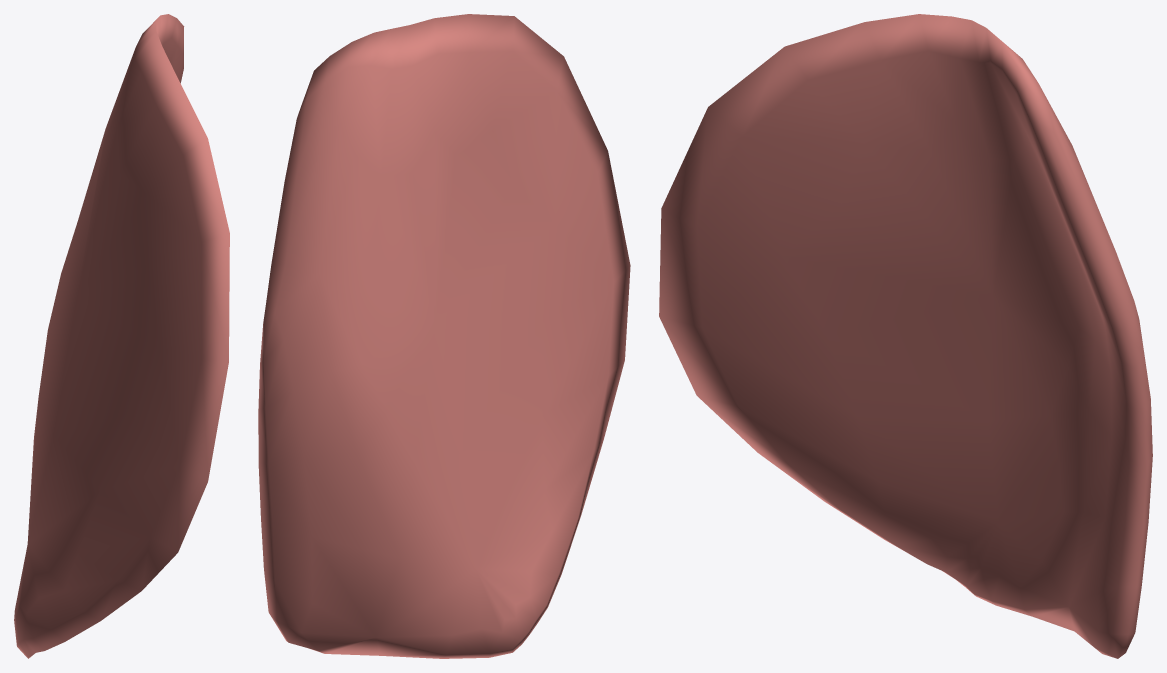
The picture shows the model from 3 angles, left to right: view 1: azimuth 30°, elevation 25°; view 2: azimuth 150°, elevation 25°; view 3: azimuth 270°, elevation 25°; orthographic projection. The views are drawn at different scales.
Visible parts, largest first — view 1: ZA_1c0a1e9200bb74a0; view 2: ZA_1c0a1e9200bb74a0; view 3: ZA_1c0a1e9200bb74a0.
Boxes of the visible parts, x1=… form: ZA_1c0a1e9200bb74a0: x1=14, y1=14, x2=229, y2=658; ZA_1c0a1e9200bb74a0: x1=258, y1=14, x2=630, y2=658; ZA_1c0a1e9200bb74a0: x1=659, y1=14, x2=1152, y2=658.
Size of the model in its own units: 0.0032 by 0.00916 by 0.00638.
